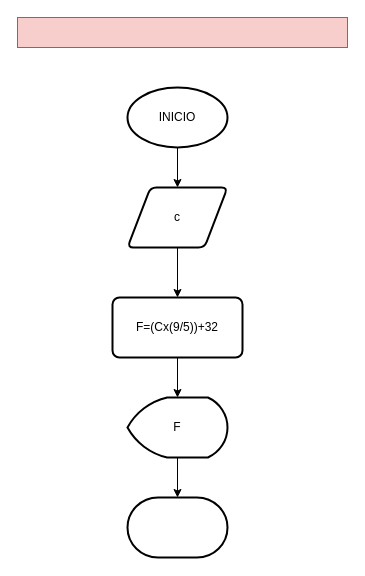
Image size: 365x576. Some labels were removed from this diagram. Here are the shapes that lost their labels. From the top down, the centre of each, then its label:
point 182,32: EJERCICIO: CONVERTIR DE CELSIUS A FAHRENHEIT
point 177,527: FIN
